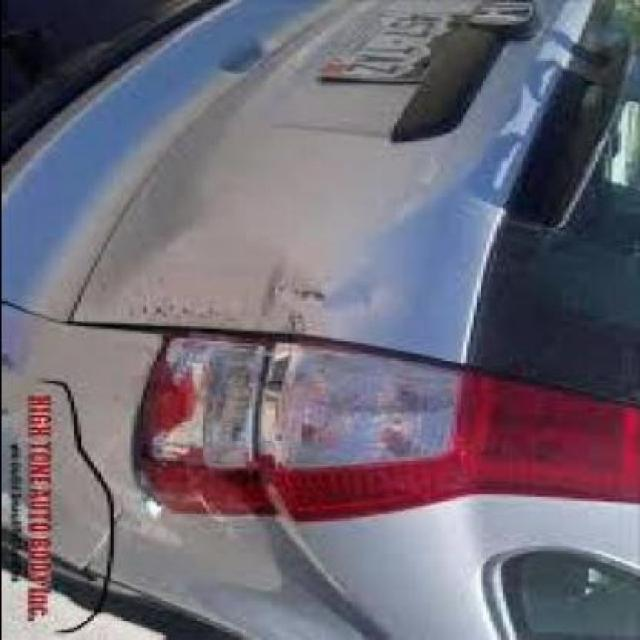damage: (96, 215, 369, 528)
